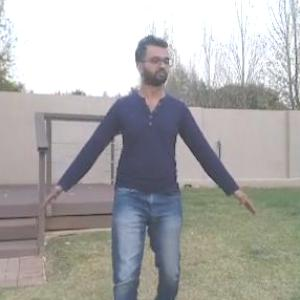land: (18, 11, 260, 299)
